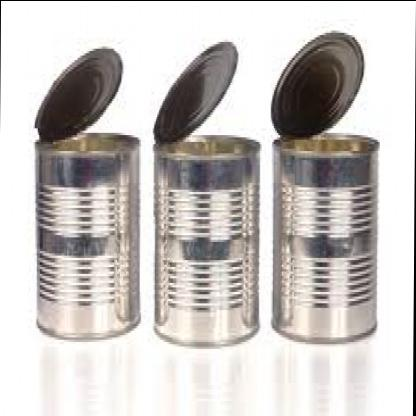Metal: (4, 11, 396, 375)
